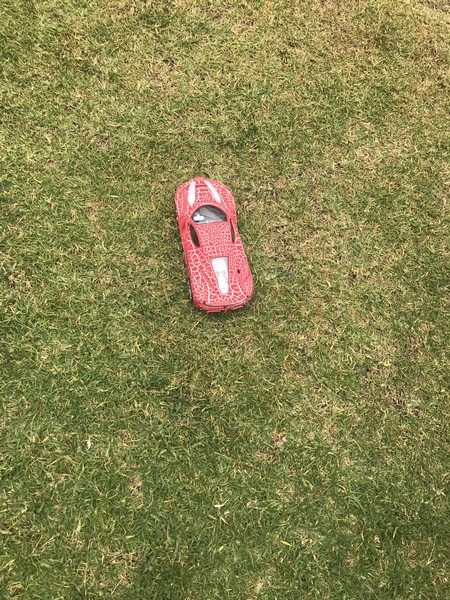RC: (176, 178, 256, 314)
